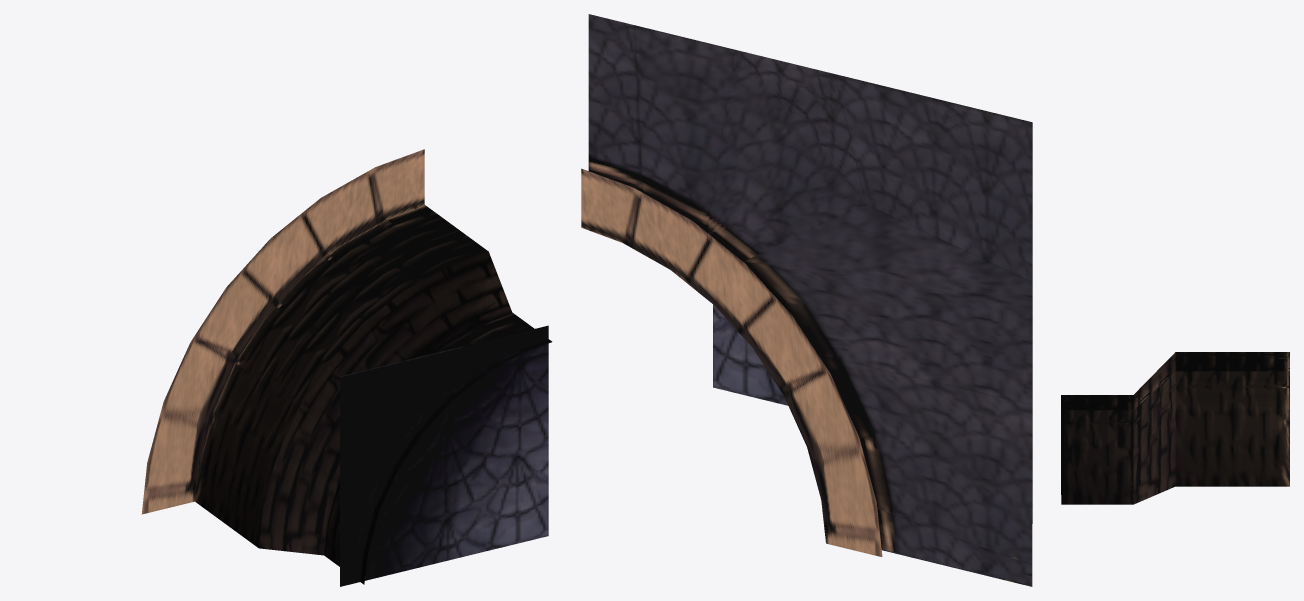
The model's file is ex_InCorner0.obj.
3 renders of one model, left to right at view 1: azimuth 30°, elevation 25°; view 2: azimuth 150°, elevation 25°; view 3: azimuth 270°, elevation 25°, orthographic. The views are drawn at different scales.
Parts seen in each view (by area): view 1: ex_InCorner0_Cube.300; view 2: object 2, ex_InCorner0_Cube.300; view 3: ex_InCorner0_Cube.300.
Part boxes in pixels (bbox=[...]): ex_InCorner0_Cube.300: bbox=[141, 149, 552, 586]; object 2: bbox=[588, 14, 1032, 586]; ex_InCorner0_Cube.300: bbox=[581, 168, 882, 556]; ex_InCorner0_Cube.300: bbox=[1061, 352, 1289, 504].
Bounding box in the file's own units: 256 × 256 × 136.
